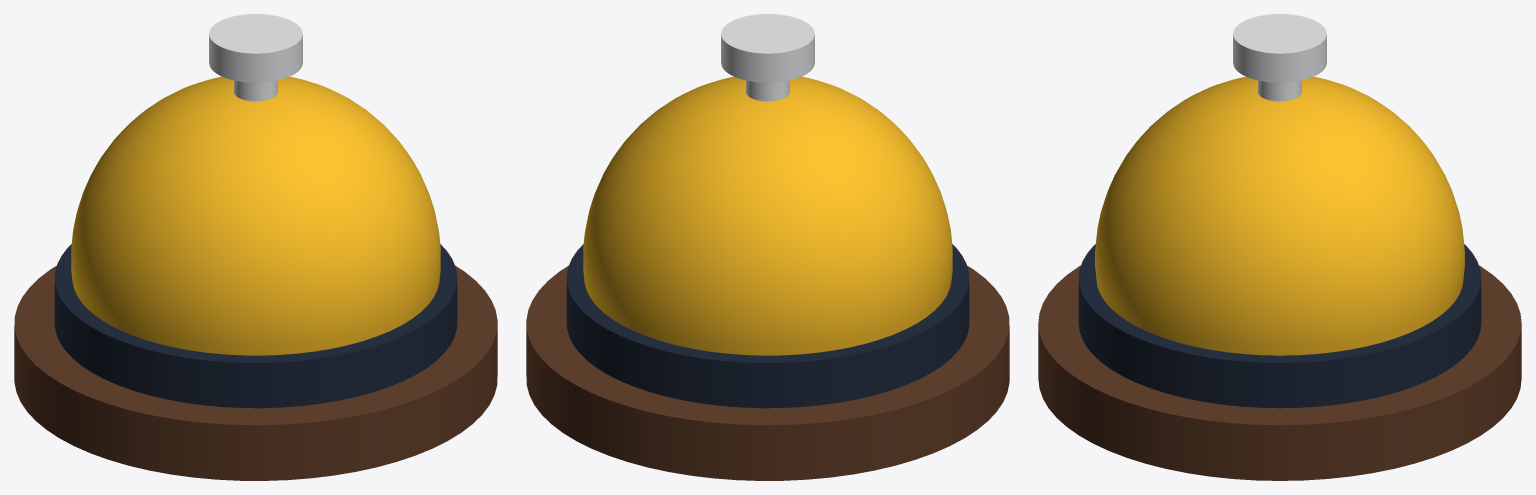
File: reception_bell.glb
3 renders of one model, left to right at view 1: azimuth 30°, elevation 25°; view 2: azimuth 150°, elevation 25°; view 3: azimuth 270°, elevation 25°, orthographic.
Parts seen in each view (by area): view 1: bell_dome, bell_pad, bell_rim, bell_btn, bell_stem; view 2: bell_dome, bell_pad, bell_rim, bell_btn, bell_stem; view 3: bell_dome, bell_pad, bell_rim, bell_btn, bell_stem.
Part boxes in pixels (x1,y1,x2,y2): bell_dome: (71, 76, 440, 355); bell_pad: (14, 265, 497, 480); bell_rim: (54, 244, 457, 408); bell_btn: (209, 14, 302, 82); bell_stem: (234, 80, 277, 101); bell_dome: (583, 76, 952, 355); bell_pad: (526, 265, 1009, 480); bell_rim: (566, 244, 969, 408); bell_btn: (721, 14, 814, 82); bell_stem: (746, 80, 789, 101); bell_dome: (1095, 76, 1464, 355); bell_pad: (1038, 265, 1521, 480); bell_rim: (1078, 244, 1481, 408); bell_btn: (1233, 14, 1326, 82); bell_stem: (1258, 80, 1301, 101).
Size of the model in its own units: 0.33 by 0.26 by 0.33.
